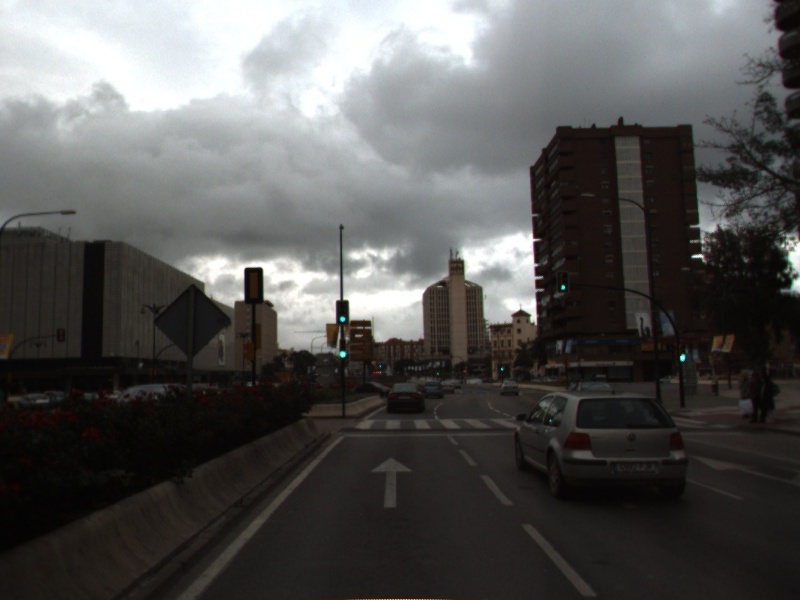STRAIGHT: (687, 451, 800, 488), (367, 454, 415, 509)
